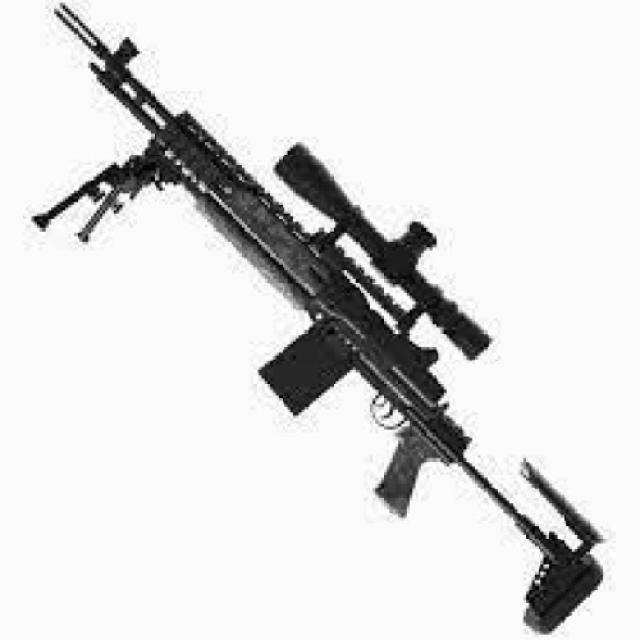Gun: (29, 0, 609, 634)
